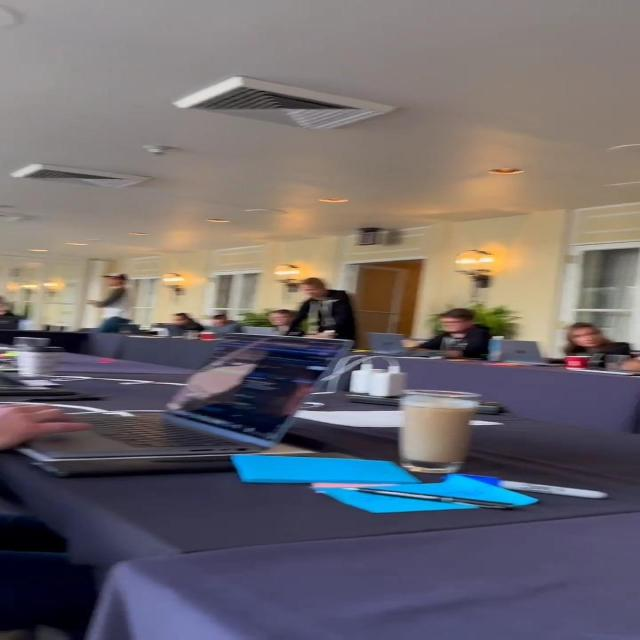NO-Mask: (572, 326, 601, 348), (442, 318, 465, 334), (301, 282, 322, 298), (270, 314, 289, 326), (105, 276, 122, 287), (213, 315, 225, 325), (173, 316, 187, 324)
